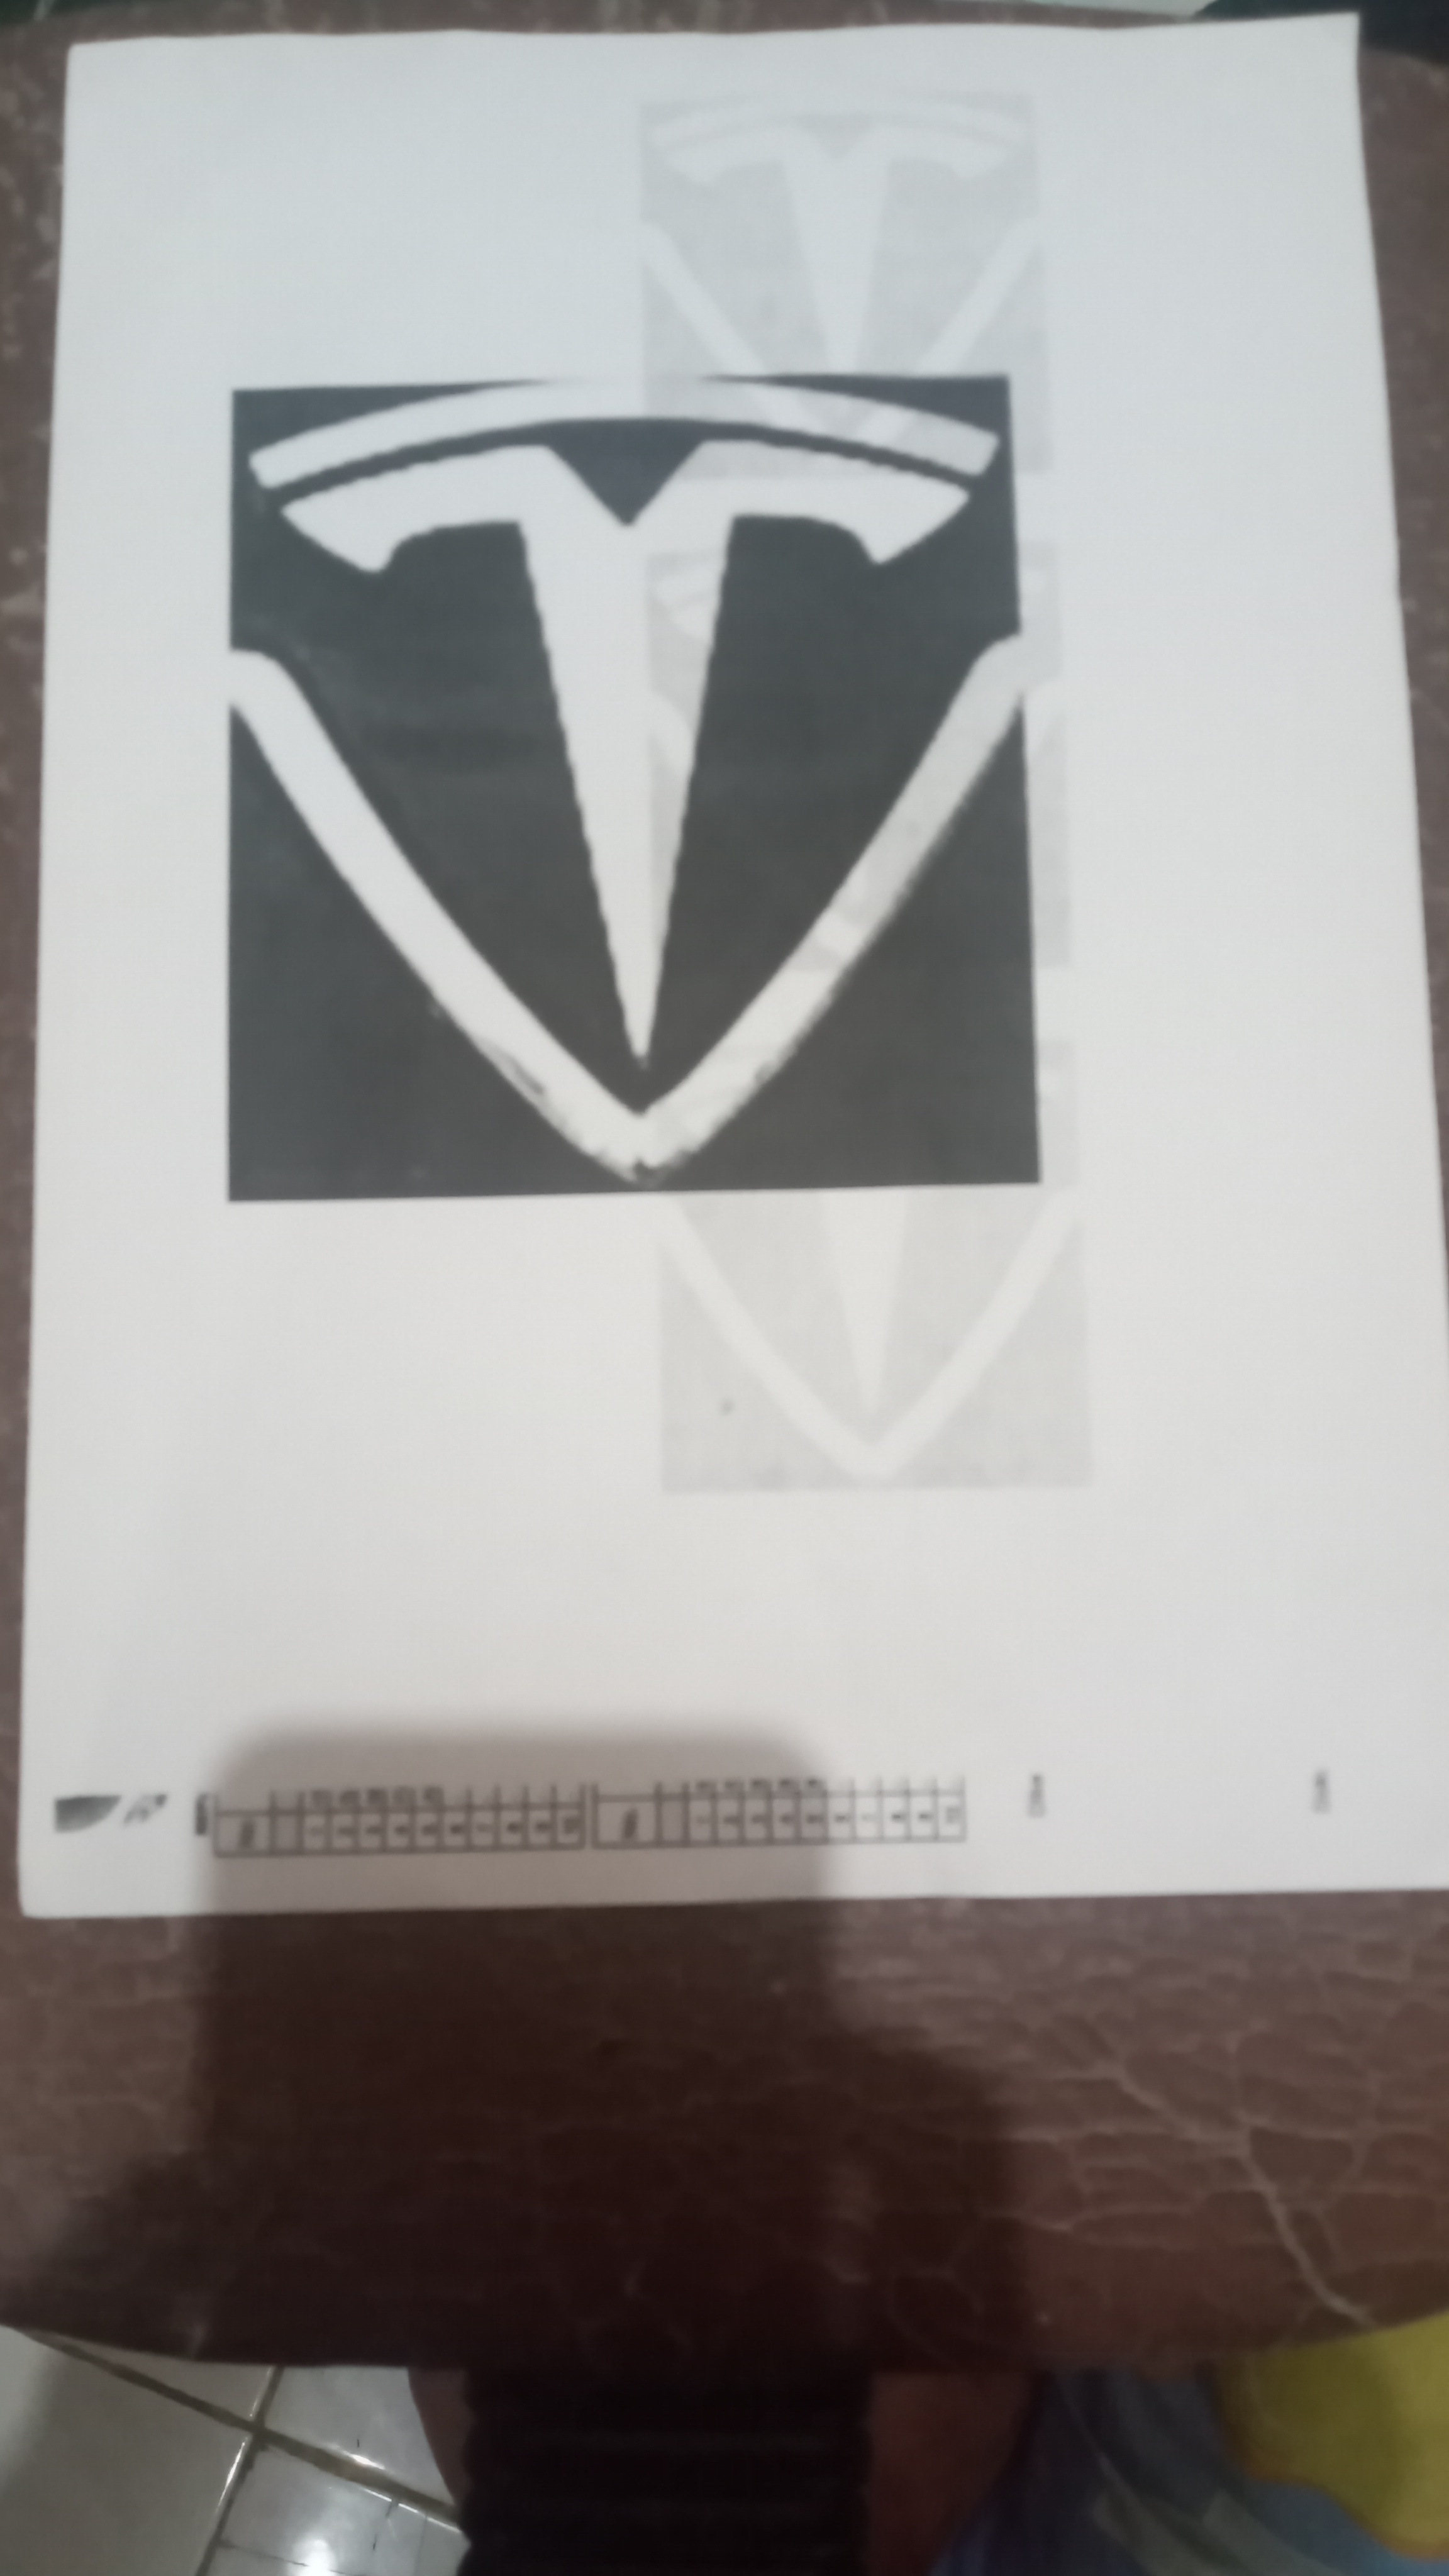Tesla: (228, 389, 1046, 1200)
